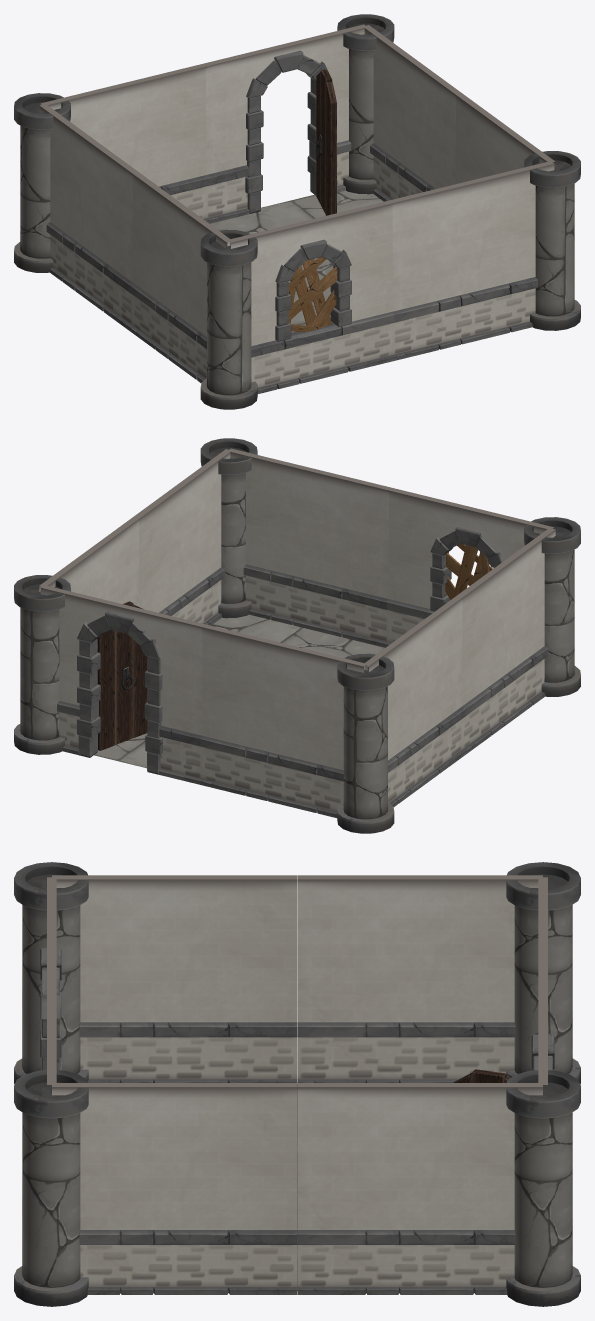
File: SM_littleRoom.fbx
3 views of the same model, one above another, from view 1: azimuth 30°, elevation 25°; view 2: azimuth 150°, elevation 25°; view 3: azimuth 270°, elevation 25° (orthographic). The views are drawn at different scales.
Parts seen in each view (by area): view 1: SM_wall33, SM_wallWindow9, SM_wallDoor1, SM_wall31, SM_wall34, SM_wall32, SM_wall29, SM_pillarHuge33, SM_pillarHuge34, SM_pillarHuge32, SM_pillarHuge35, SM_wall30 (+2 smaller); view 2: SM_wall33, SM_wall34, SM_wallDoor1, SM_wall32, SM_wall31, SM_wallWindow9, SM_wall30, SM_pillarHuge32, SM_pillarHuge35, SM_pillarHuge33, BtD_props_0174:SM_door, SM_pillarHuge34 (+3 smaller); view 3: SM_wall29, SM_wall30, SM_wall32, SM_wall31, SM_pillarHuge35, SM_pillarHuge34, SM_pillarHuge32, SM_pillarHuge33, SM_wallWindow9, SM_wallDoor1, SM_wall34, SM_wall33.
Part boxes in pixels (x1=…): SM_wall33: x1=389, y1=161, x2=554, y2=360; SM_wallWindow9: x1=227, y1=200, x2=394, y2=393; SM_wallDoor1: x1=203, y1=24, x2=365, y2=223; SM_wall31: x1=39, y1=104, x2=138, y2=330; SM_wall34: x1=40, y1=64, x2=207, y2=222; SM_wall32: x1=129, y1=172, x2=231, y2=382; SM_wall29: x1=363, y1=25, x2=461, y2=201; SM_pillarHuge33: x1=200, y1=229, x2=257, y2=409; SM_pillarHuge34: x1=524, y1=151, x2=580, y2=330; SM_pillarHuge32: x1=14, y1=93, x2=70, y2=272; SM_pillarHuge35: x1=337, y1=14, x2=394, y2=194; SM_wall30: x1=456, y1=93, x2=555, y2=183; SM_wall33: x1=228, y1=448, x2=391, y2=647; SM_wall34: x1=200, y1=624, x2=367, y2=817; SM_wallDoor1: x1=40, y1=585, x2=205, y2=784; SM_wall32: x1=456, y1=528, x2=555, y2=754; SM_wall31: x1=364, y1=596, x2=465, y2=806; SM_wallWindow9: x1=387, y1=488, x2=554, y2=646; SM_wall30: x1=133, y1=449, x2=231, y2=625; SM_pillarHuge32: x1=337, y1=653, x2=394, y2=833; SM_pillarHuge35: x1=14, y1=575, x2=70, y2=754; SM_pillarHuge33: x1=524, y1=517, x2=580, y2=696; BtD_props_0174:SM_door: x1=97, y1=601, x2=147, y2=750; SM_pillarHuge34: x1=200, y1=438, x2=257, y2=618; SM_wall29: x1=297, y1=1083, x2=542, y2=1294; SM_wall30: x1=52, y1=1083, x2=297, y2=1294; SM_wall32: x1=52, y1=875, x2=297, y2=1082; SM_wall31: x1=297, y1=875, x2=542, y2=1082; SM_pillarHuge35: x1=506, y1=1070, x2=580, y2=1306; SM_pillarHuge34: x1=14, y1=1070, x2=88, y2=1306; SM_pillarHuge32: x1=506, y1=862, x2=580, y2=1083; SM_pillarHuge33: x1=14, y1=862, x2=88, y2=1083; SM_wallWindow9: x1=40, y1=877, x2=61, y2=1070; SM_wallDoor1: x1=531, y1=981, x2=554, y2=1084; SM_wall34: x1=534, y1=877, x2=552, y2=1034; SM_wall33: x1=47, y1=981, x2=56, y2=1084.
Bounding box in the file's own units: 13.95 × 5.59 × 13.95.
